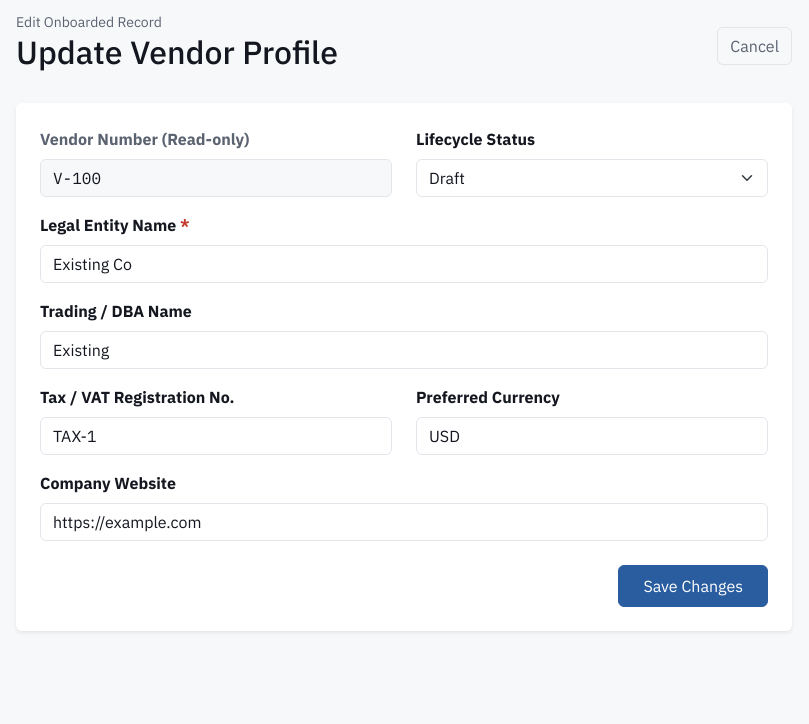
Test: VendorEdit › shows a required-field error when Legal Entity Name is cleared on submit
Clear the field below "Legal Entity Name" at (404, 264), box top-left (40, 245), bottom-right (768, 283)
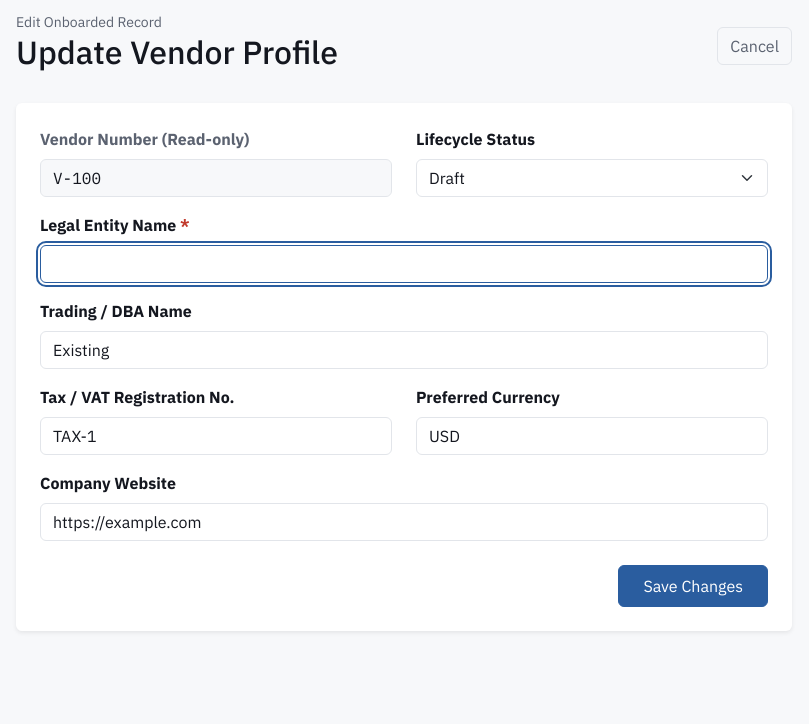
Submit the form, box top-left (40, 127), bottom-right (768, 607)
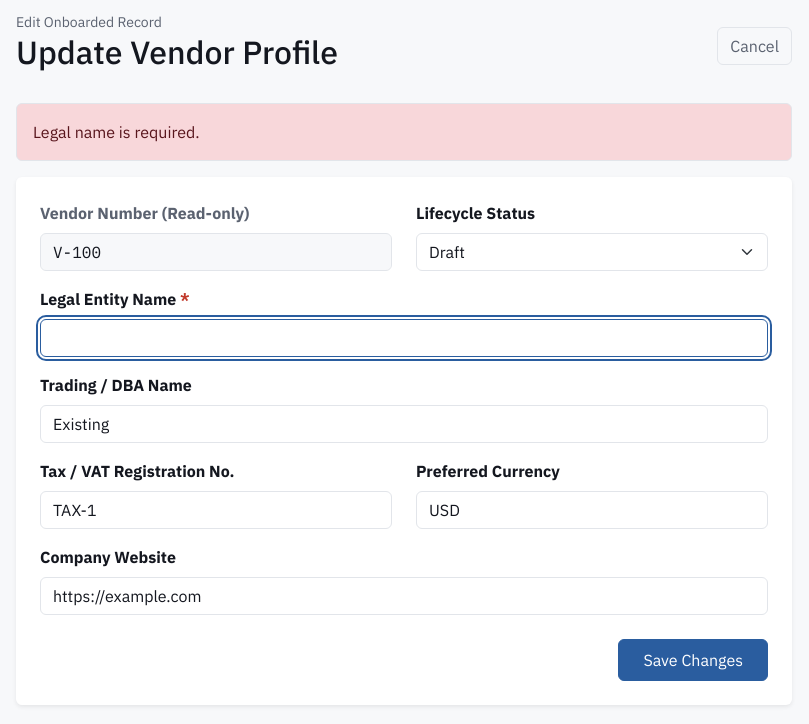
Expected: the message shows "Legal name is required", top-left (33, 122), bottom-right (200, 142)
